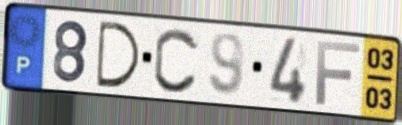4: (267, 35, 309, 107)
8: (51, 17, 89, 86)
9: (208, 31, 247, 99)
C: (151, 25, 201, 96)
D: (95, 18, 144, 90)
F: (313, 39, 363, 108)
